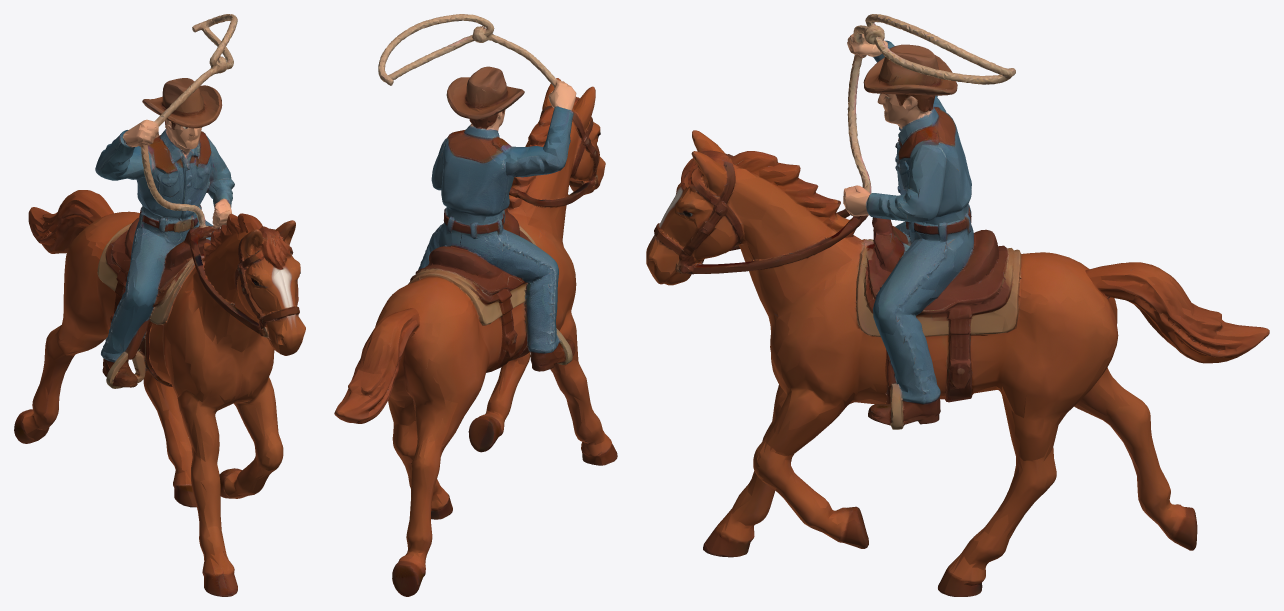
3 views of the same model, side by side, from view 1: azimuth 30°, elevation 25°; view 2: azimuth 150°, elevation 25°; view 3: azimuth 270°, elevation 25° (orthographic). The views are drawn at different scales.
Size of the model in its own units: 0.6762 by 1.9 by 1.86.
1 material, 1 textured.
